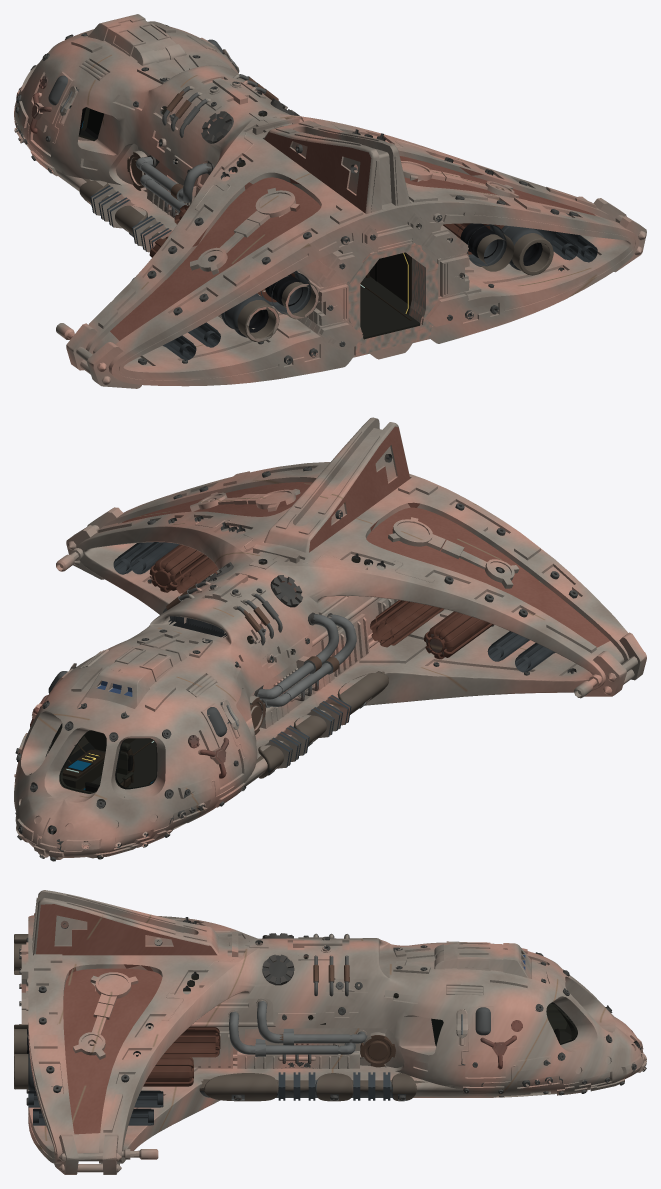
The model's file is destiny_shuttle_dev.obj.
3 renders of one model, top to bottom at view 1: azimuth 30°, elevation 25°; view 2: azimuth 150°, elevation 25°; view 3: azimuth 270°, elevation 25°, orthographic. The views are drawn at different scales.
Visible parts, largest first — view 1: UNCUT_original_shuttle_exterior_-_edit_window_recesses_here, Clean_rear_hatch_bulkhead, Central_cabin_deck, Cabin_inner_wall.001; view 2: UNCUT_original_shuttle_exterior_-_edit_window_recesses_here, Central_cabin_deck; view 3: UNCUT_original_shuttle_exterior_-_edit_window_recesses_here, V90_Cockpit_continuous_inner_wall.
Part boxes in pixels (bbox=[...]): UNCUT_original_shuttle_exterior_-_edit_window_recesses_here: bbox=[14, 14, 646, 388]; Clean_rear_hatch_bulkhead: bbox=[347, 243, 438, 355]; Central_cabin_deck: bbox=[360, 276, 420, 339]; Cabin_inner_wall.001: bbox=[369, 252, 409, 304]; UNCUT_original_shuttle_exterior_-_edit_window_recesses_here: bbox=[14, 417, 646, 861]; Central_cabin_deck: bbox=[129, 738, 156, 779]; UNCUT_original_shuttle_exterior_-_edit_window_recesses_here: bbox=[14, 890, 646, 1174]; V90_Cockpit_continuous_inner_wall: bbox=[546, 1002, 605, 1043].
Size of the model in its own units: 24.15 by 8.52 by 26.7.
